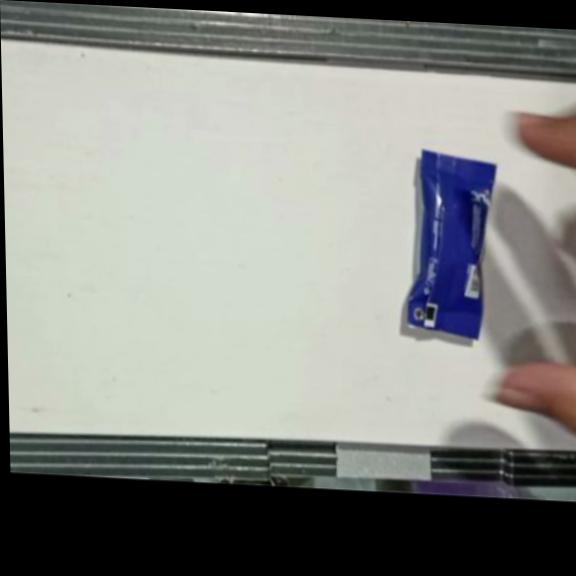Plastik: (403, 150, 501, 340)
